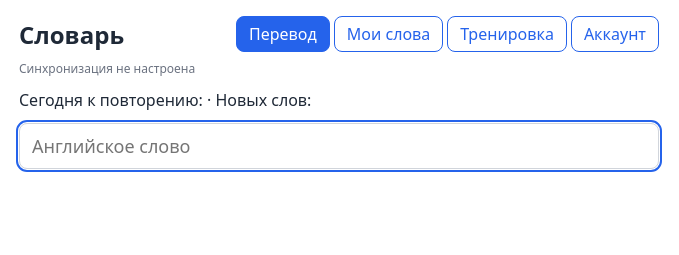
App › после перевода слово автоматически сохраняется, повтор не создаёт дубль и не ходит в сеть
In the field labelled "Английское слово": (339, 146) [19,123,659,169], type "resilient"
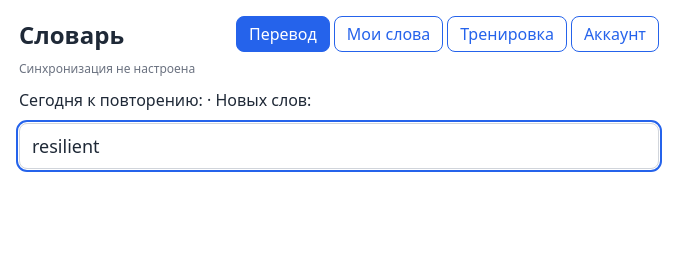
Submit the form named "Английское слово", box [19,123,659,169]
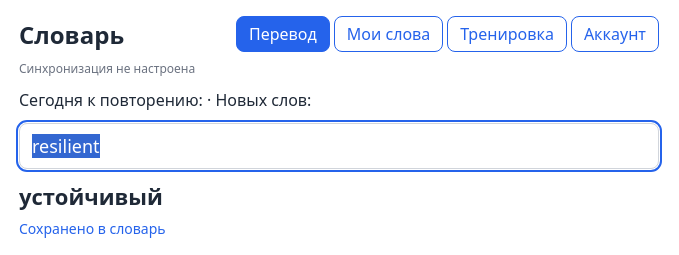
Expected: the text "Сохранено в словарь" is shown, [19,219,166,238]
Replace the text in the field named "Английское слово" with "Resilient": (339, 146) [19,123,659,169]
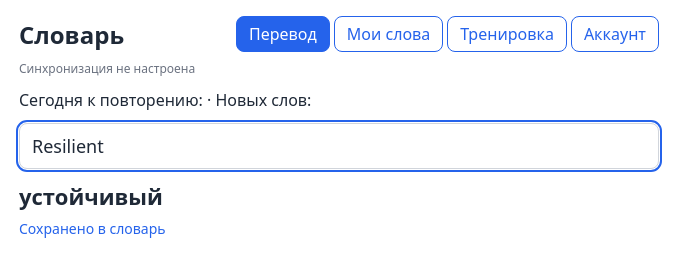
Submit the form named "Английское слово", box [19,123,659,169]
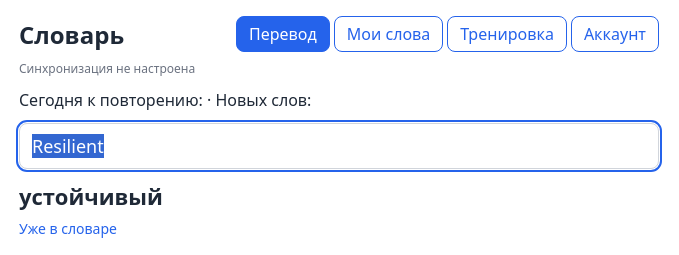
Expected: the text "Уже в словаре" is shown, [19,219,117,238]
